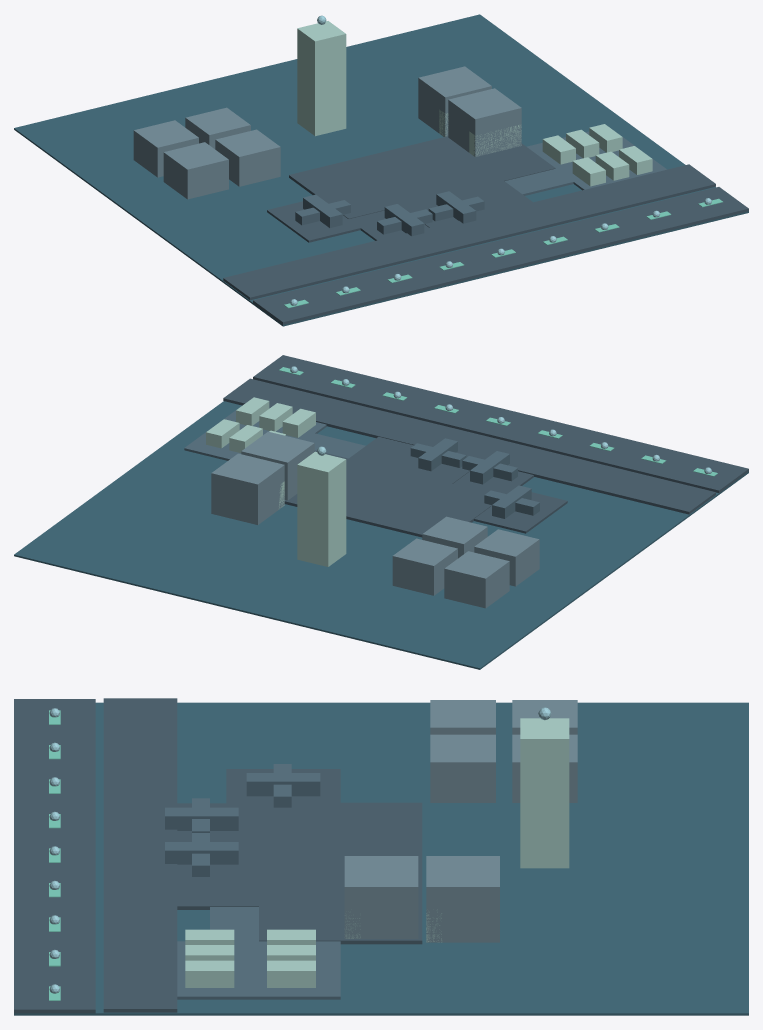
The model's file is stage_18.glb.
3 renders of one model, top to bottom at view 1: azimuth 30°, elevation 25°; view 2: azimuth 150°, elevation 25°; view 3: azimuth 270°, elevation 25°, orthographic. The views are drawn at different scales.
Visible parts, largest first — view 1: geometry_0; view 2: geometry_0; view 3: geometry_0.
Boxes of the visible parts, x1,y1,x2,y2 form: geometry_0: (14,14,748,326); geometry_0: (14,355,748,669); geometry_0: (14,698,748,1015).
Bounding box in the file's own units: 9 × 2.06 × 9.
